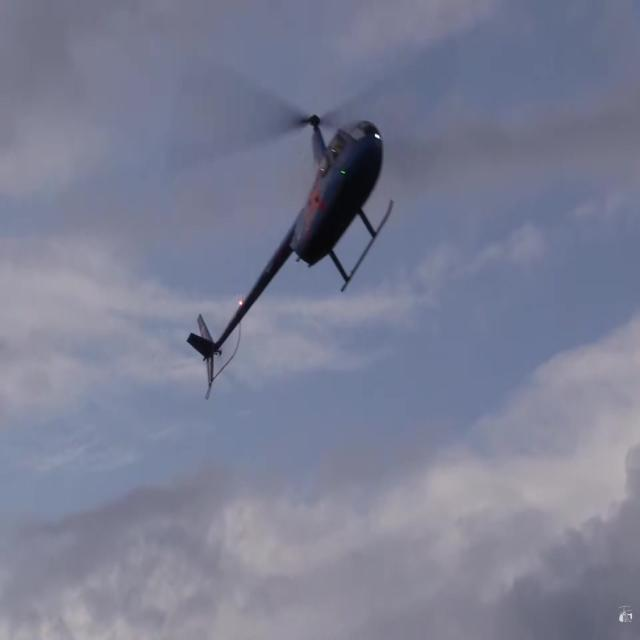CIV_HELO: (187, 106, 395, 404)
